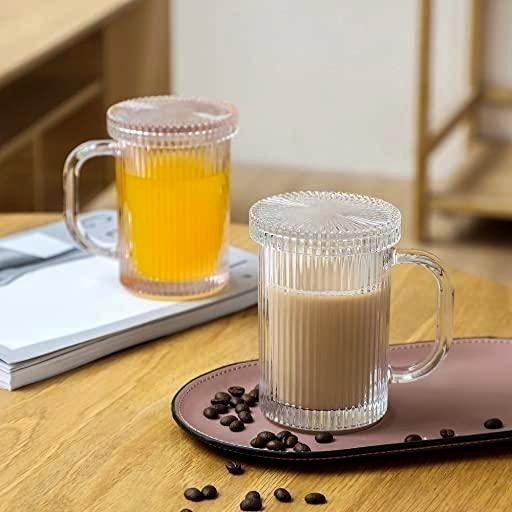glass-mug: (245, 186, 458, 434), (60, 90, 250, 307)
